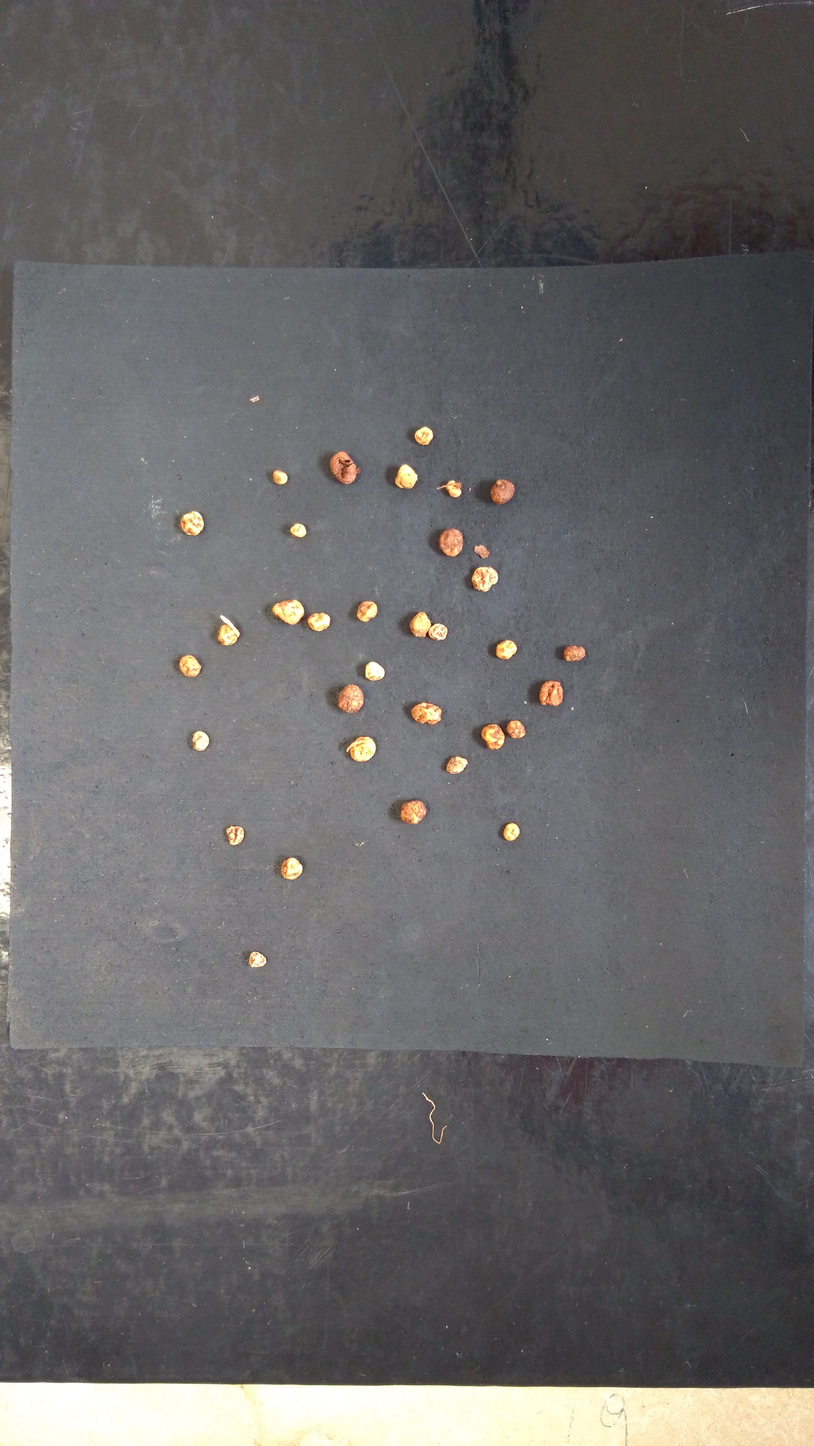nodule: (329, 450, 361, 486), (271, 599, 305, 625), (338, 685, 364, 714), (411, 702, 442, 725), (350, 736, 376, 763), (438, 528, 463, 556), (472, 566, 498, 592), (400, 799, 427, 824), (538, 680, 563, 706), (490, 479, 515, 504), (180, 510, 204, 536), (481, 724, 505, 750), (394, 464, 418, 489), (409, 612, 431, 637), (179, 654, 201, 677), (280, 857, 303, 879), (216, 624, 238, 646), (307, 612, 331, 632), (356, 601, 378, 622), (496, 640, 517, 660), (365, 661, 385, 681), (226, 825, 245, 846), (446, 756, 468, 774), (563, 645, 586, 662), (414, 426, 433, 446), (506, 720, 526, 739), (192, 731, 210, 751), (428, 623, 448, 641), (503, 822, 520, 841), (249, 951, 267, 968), (446, 480, 461, 498), (272, 470, 288, 485), (290, 523, 307, 537)
